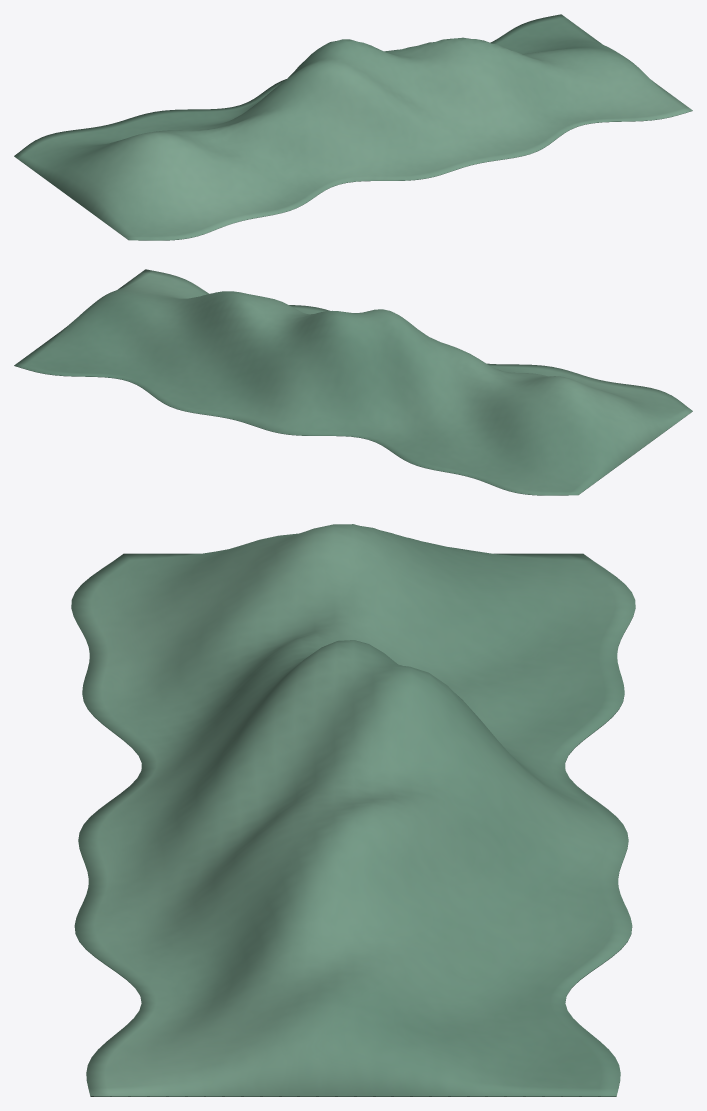
File: mountain_near_B.glb
3 views of the same model, one above another, from view 1: azimuth 30°, elevation 25°; view 2: azimuth 150°, elevation 25°; view 3: azimuth 270°, elevation 25° (orthographic). The views are drawn at different scales.
Visible parts, largest first — view 1: mountain_near_B; view 2: mountain_near_B; view 3: mountain_near_B.
Part boxes in pixels (x1=…): mountain_near_B: x1=14, y1=14, x2=692, y2=240; mountain_near_B: x1=14, y1=269, x2=692, y2=495; mountain_near_B: x1=71, y1=524, x2=635, y2=1096.
Bounding box in the file's own units: 48 × 6.53 × 21.1.
1 material, 1 textured.
